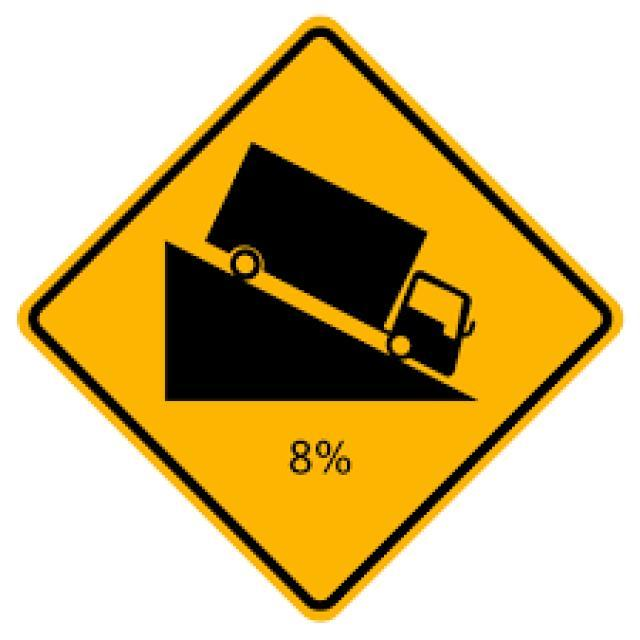steep descent: (24, 20, 613, 612)
